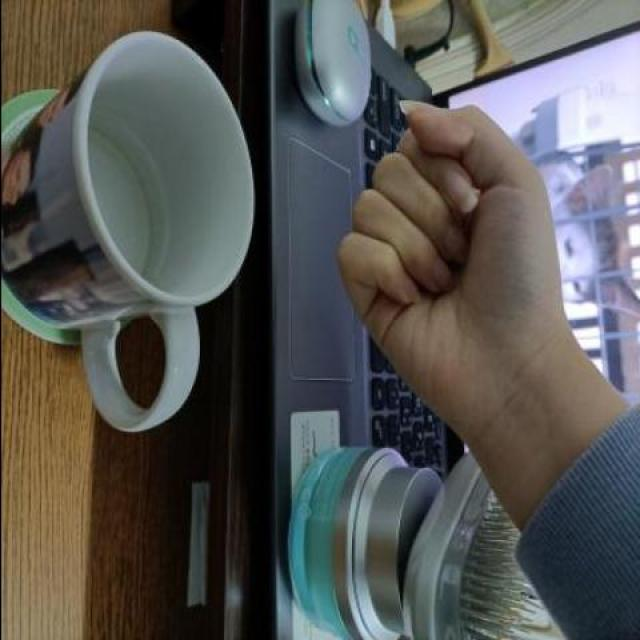fist: (325, 75, 568, 448)
